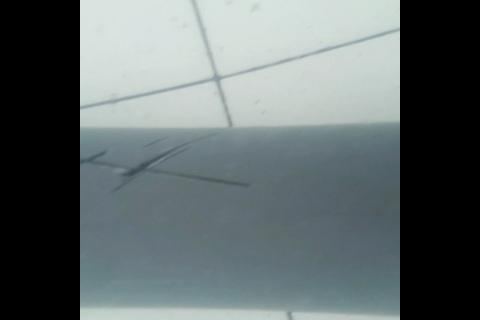keretakan: (80, 133, 250, 193)
